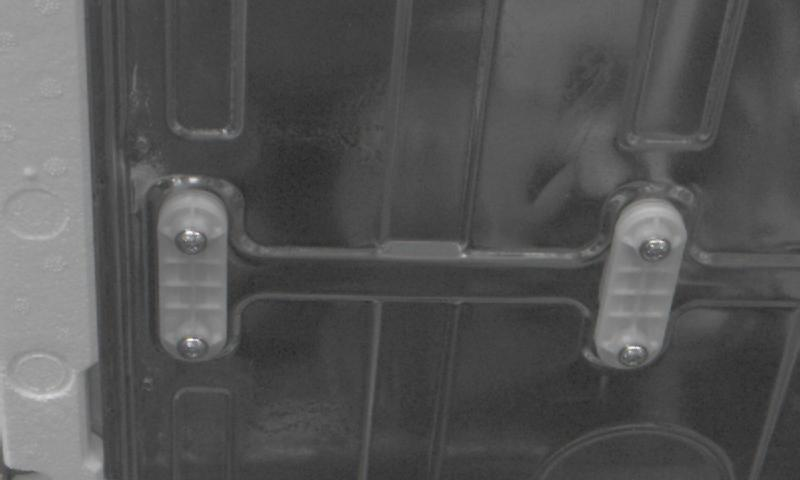vida-ok: (634, 229, 678, 268), (173, 224, 212, 264), (613, 334, 652, 373), (175, 330, 212, 365)
